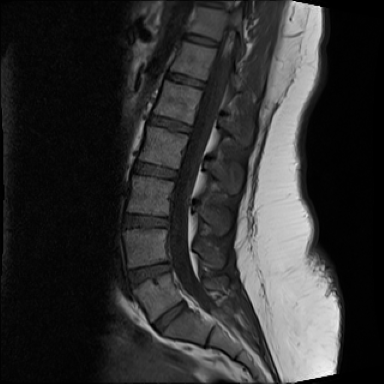Normal IVD: (145, 293, 192, 339), (123, 255, 178, 291), (125, 155, 183, 186), (142, 109, 196, 139), (115, 210, 173, 234), (161, 65, 209, 93), (178, 30, 224, 51)
